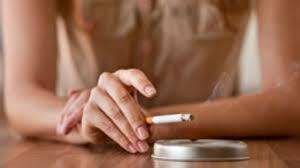smoke: (142, 113, 195, 124)
